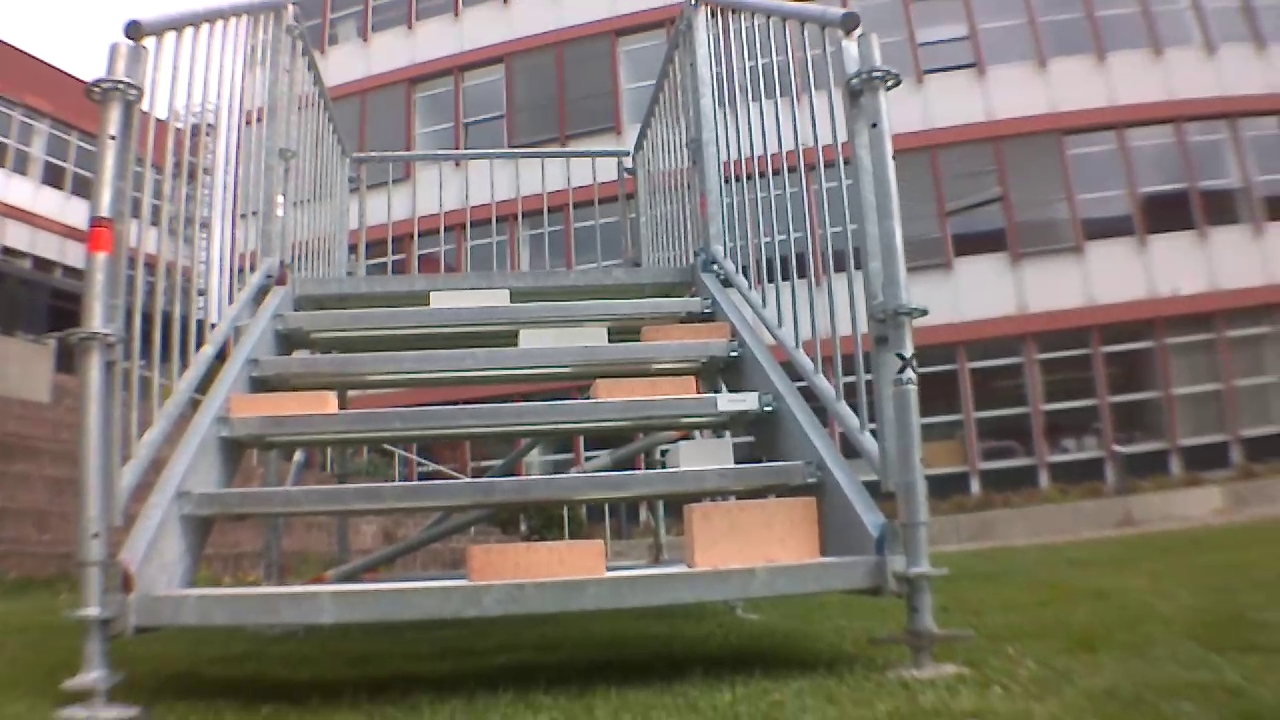brick: (687, 487, 816, 566), (462, 540, 605, 585), (222, 387, 339, 418), (513, 324, 611, 353), (589, 372, 696, 397), (664, 436, 731, 468), (642, 321, 731, 341), (430, 284, 510, 305)
edge: (129, 558, 901, 630), (184, 459, 826, 524), (210, 387, 789, 442), (250, 336, 754, 381), (272, 297, 712, 333), (288, 267, 695, 299)
stairs: (88, 6, 908, 688)
steps: (93, 269, 916, 620)
